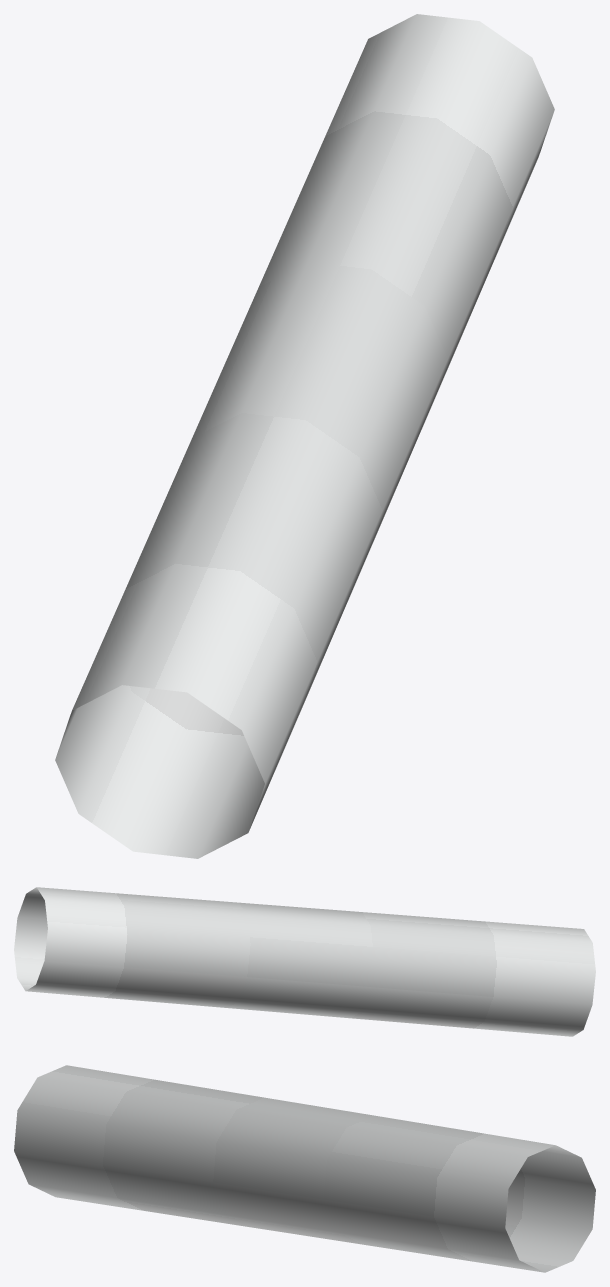
File: nycsignalarm_diagonal12_c19.obj
3 renders of one model, top to bottom at view 1: azimuth 30°, elevation 25°; view 2: azimuth 150°, elevation 25°; view 3: azimuth 270°, elevation 25°, orthographic. The views are drawn at different scales.
Parts seen in each view (by area): view 1: nycsignalarm_diagonal12_c19; view 2: nycsignalarm_diagonal12_c19; view 3: nycsignalarm_diagonal12_c19.
Part boxes in pixels (<box>): nycsignalarm_diagonal12_c19: <box>55,14,554,858</box>; nycsignalarm_diagonal12_c19: <box>14,887,595,1036</box>; nycsignalarm_diagonal12_c19: <box>14,1065,595,1272</box>.
Size of the model in its own units: 1.19 by 0.5394 by 1.19.
